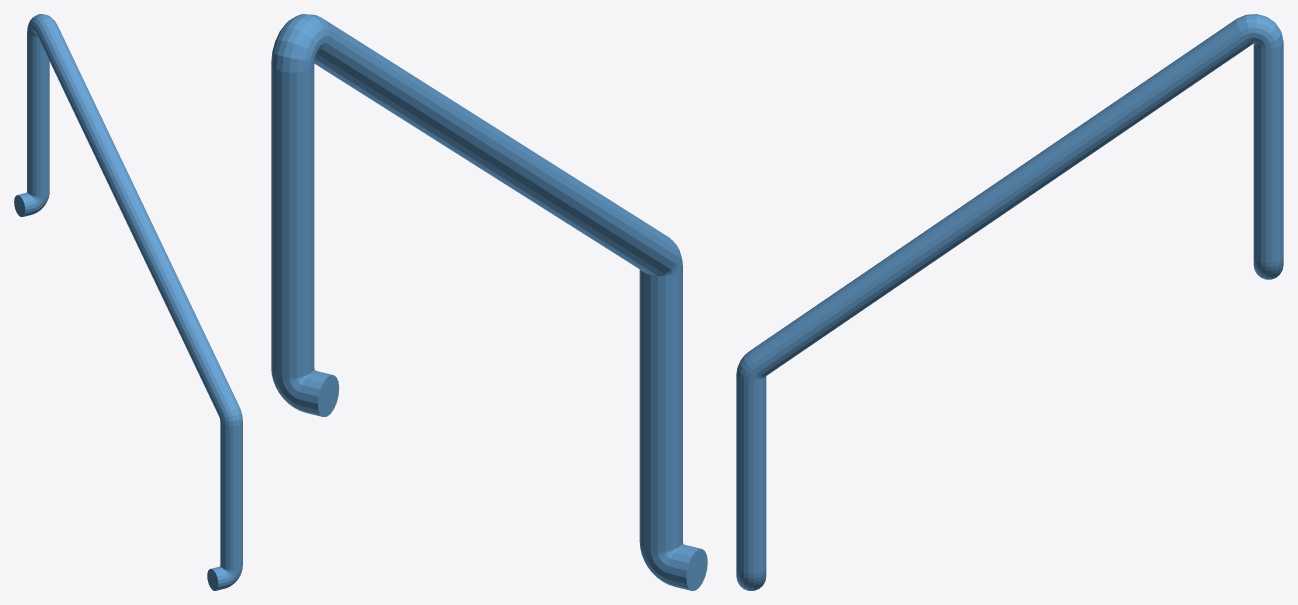
The model's file is Rail_Ramp_Side.fbx.
The picture shows the model from 3 angles, left to right: view 1: azimuth 30°, elevation 25°; view 2: azimuth 150°, elevation 25°; view 3: azimuth 270°, elevation 25°; orthographic projection. The views are drawn at different scales.
Parts seen in each view (by area): view 1: Rail_Ramp_Side; view 2: Rail_Ramp_Side; view 3: Rail_Ramp_Side.
Part boxes in pixels (<box>): Rail_Ramp_Side: <box>14,14,242,590</box>; Rail_Ramp_Side: <box>271,14,707,590</box>; Rail_Ramp_Side: <box>736,14,1283,590</box>.
Bounding box in the file's own units: 10.25 × 149 × 128.
